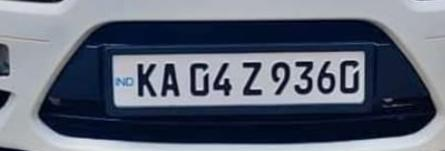0: (188, 58, 212, 100), (337, 57, 361, 99)
3: (295, 58, 315, 98)
4: (212, 60, 234, 99)
6: (315, 57, 338, 95)
9: (269, 56, 293, 100)
A: (160, 60, 183, 100)
K: (133, 61, 159, 101)
Z: (239, 57, 267, 99)
